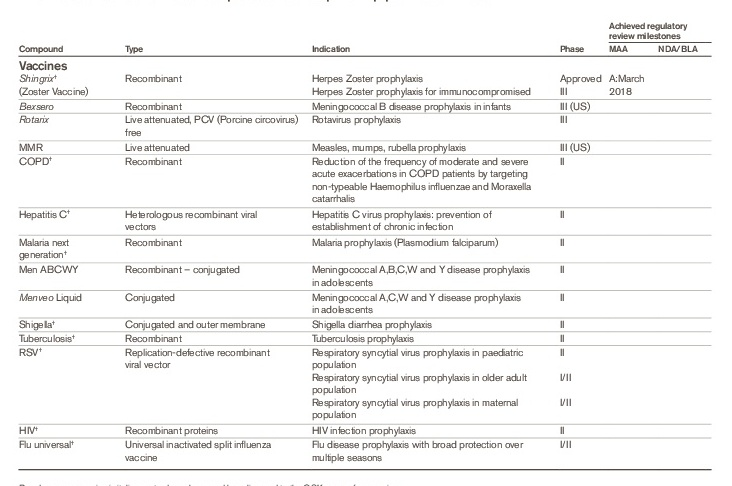table: (0, 0, 732, 486)
